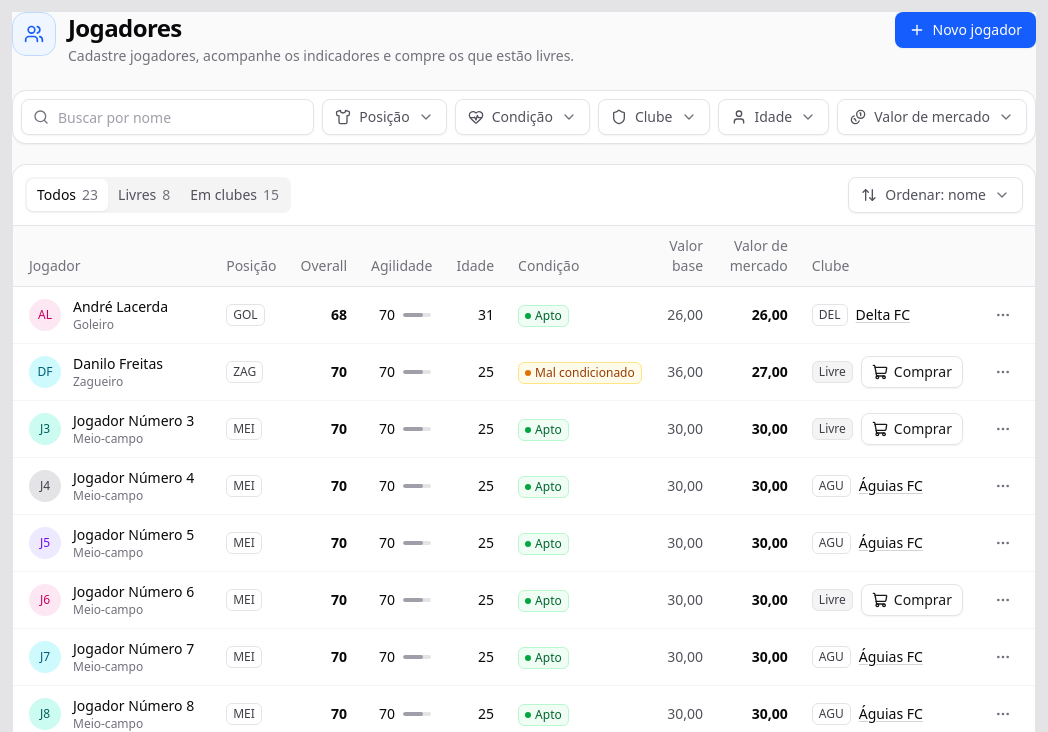
Test: PlayersPage › o filtro por clube desabilita a aba Livres
Click the button "Clube".
click(654, 117)  # box x1=598 y1=99 x2=710 y2=135
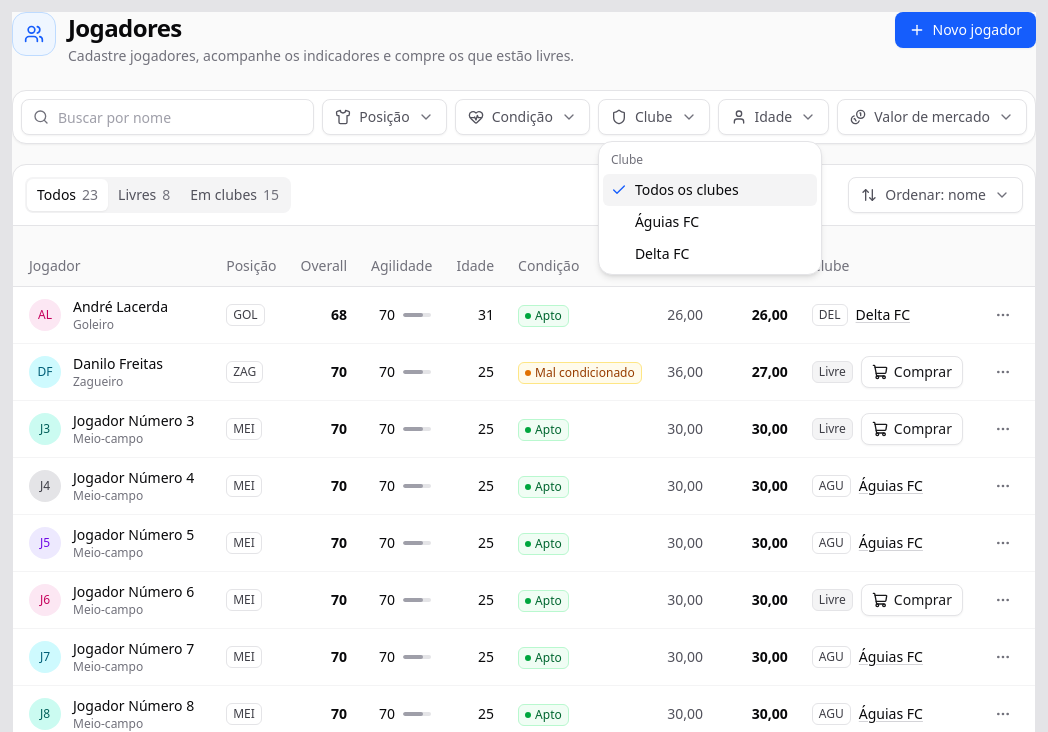
Click the menu item "Águias FC".
click(710, 222)  # box x1=603 y1=206 x2=817 y2=238
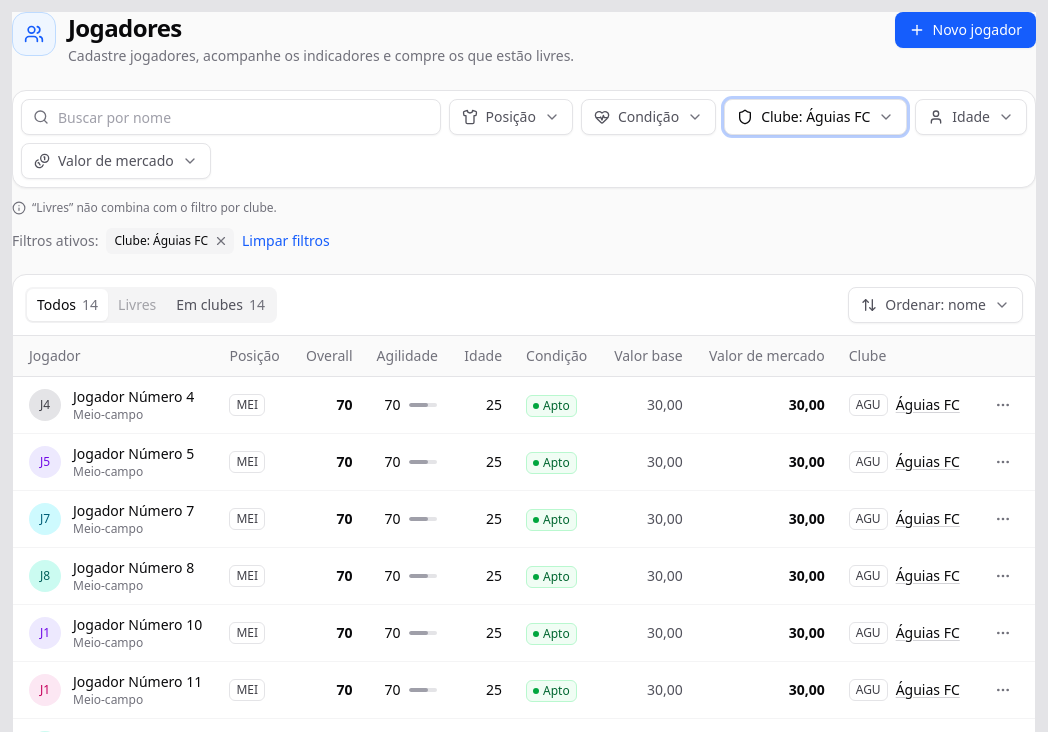
Expected: the button "Livres" is disabled, x1=108 y1=289 x2=166 y2=321
Expected: the button "Clube: Águias FC" is shown, x1=724 y1=99 x2=907 y2=135
Expected: the button named "Remover o filtro Clube: Águias FC" is shown, x1=212 y1=232 x2=230 y2=250
